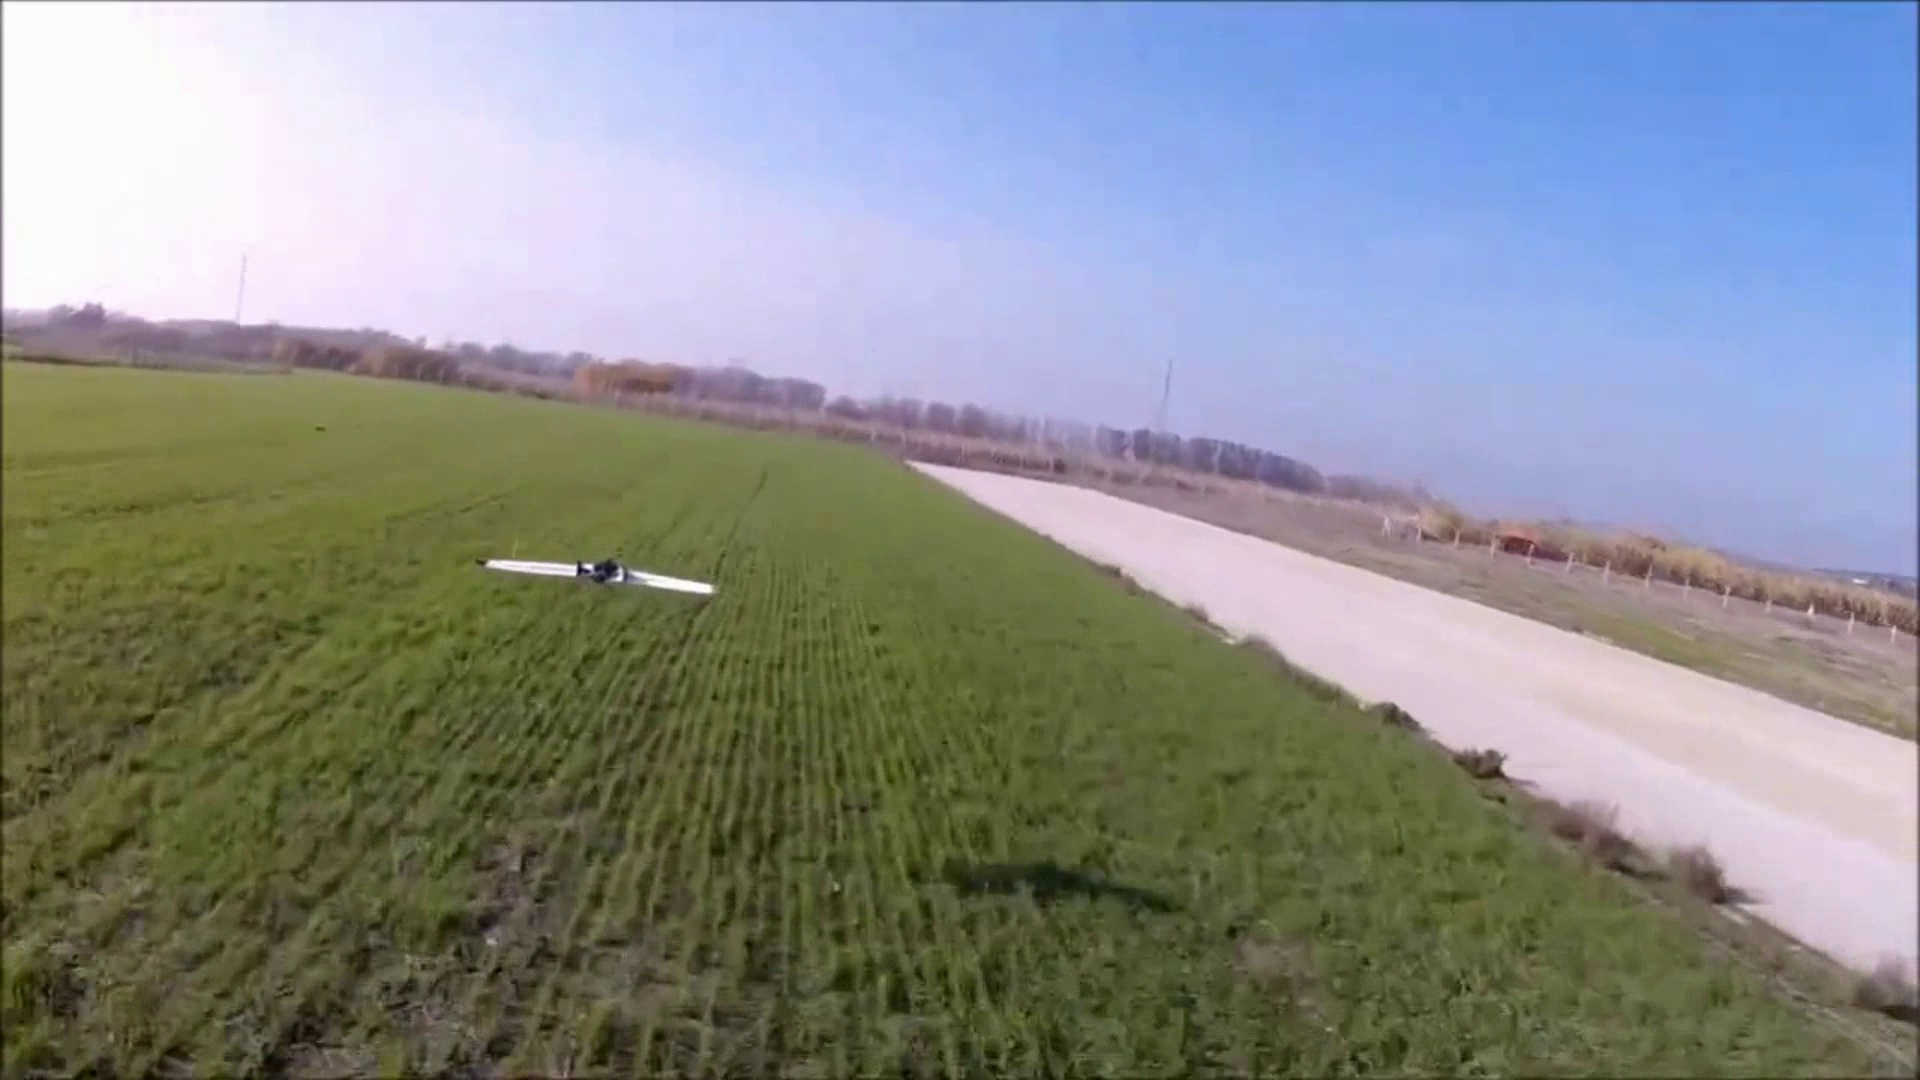airplane: (480, 550, 716, 599)
